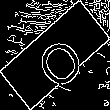O_NW: (25, 22, 85, 88)
